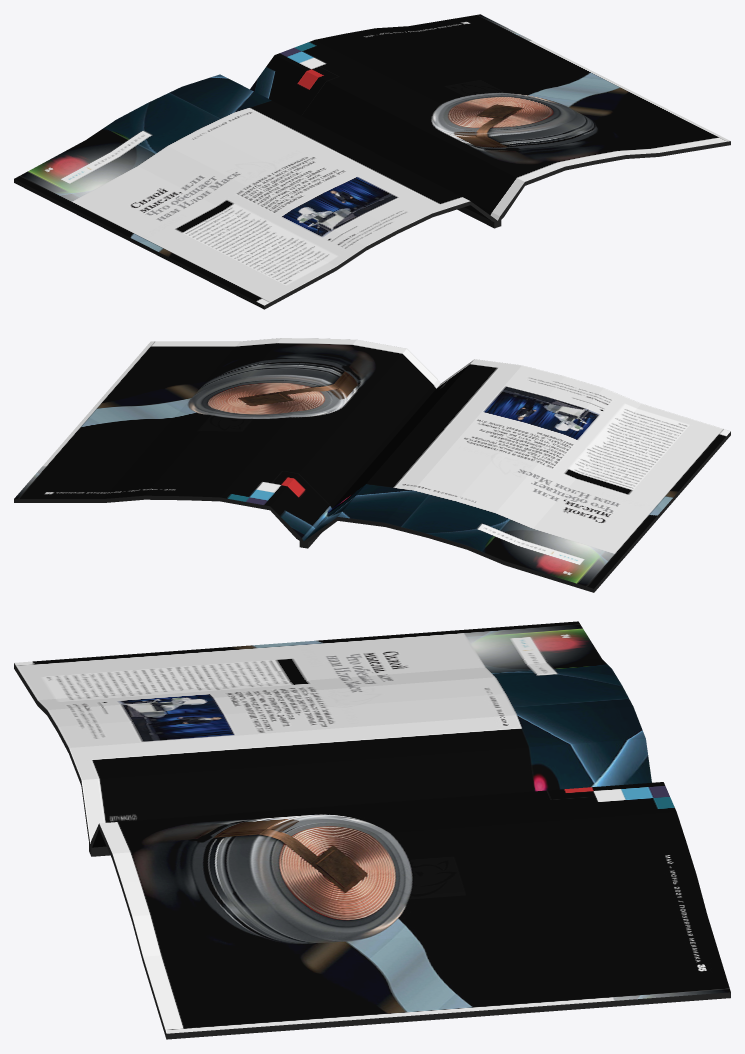
File: magazineUV.fbx
3 views of the same model, one above another, from view 1: azimuth 30°, elevation 25°; view 2: azimuth 150°, elevation 25°; view 3: azimuth 270°, elevation 25° (orthographic). The views are drawn at different scales.
Visible parts, largest first — view 1: Cube.018; view 2: Cube.018; view 3: Cube.018.
Boxes of the visible parts, x1,y1,x2,y2 form: Cube.018: (14, 14, 730, 309); Cube.018: (14, 338, 730, 592); Cube.018: (14, 621, 730, 1039).
Bounding box in the file's own units: 37.85 × 2.32 × 27.82.
